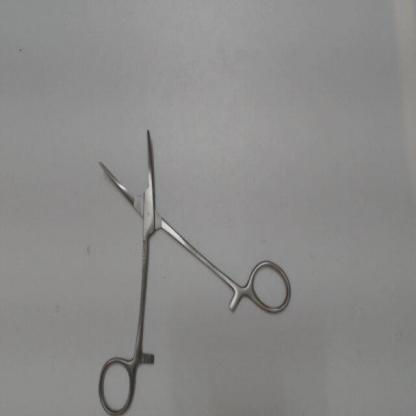Crile Artery Forceps: (88, 115, 296, 414)
